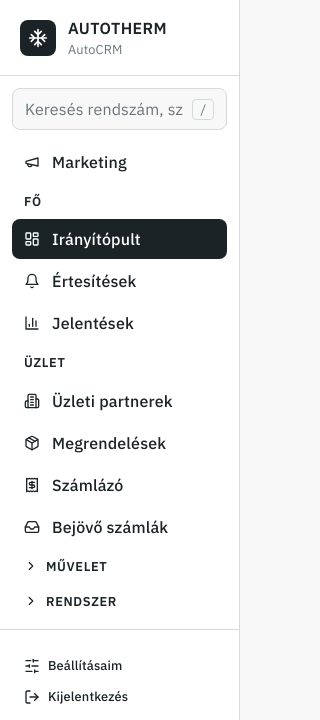
Test case: Sidebar HR entry › is hidden without HR access and shown with it
Expected: the link "Megrendelések" is shown, [24,433,166,453]
Expected: the link "HR" is not shown
// HR lives in the collapsed "Rendszer" section.
What coordinates should you click on to do the following:
click the button "Rendszer"
I would click on:
 (120, 601)
Its box is [12,586,227,617].
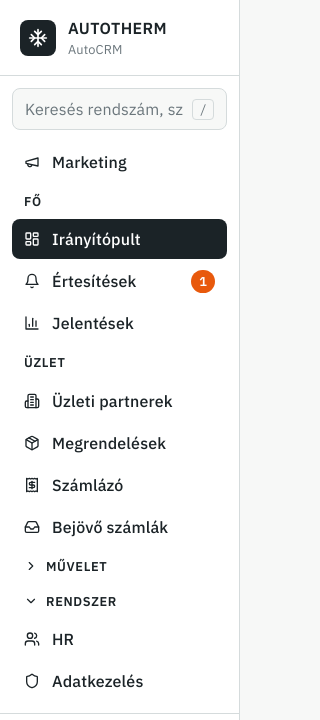
Expected: the link "HR" is shown, [24,629,74,649]
